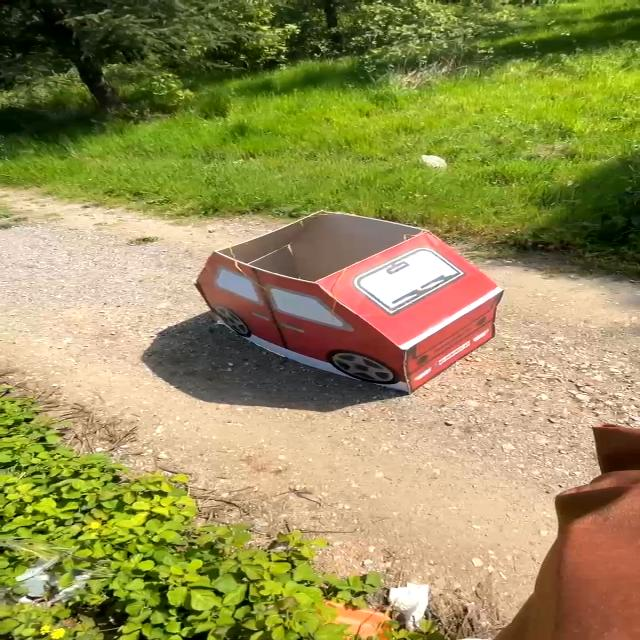red_car: (176, 202, 542, 399)
